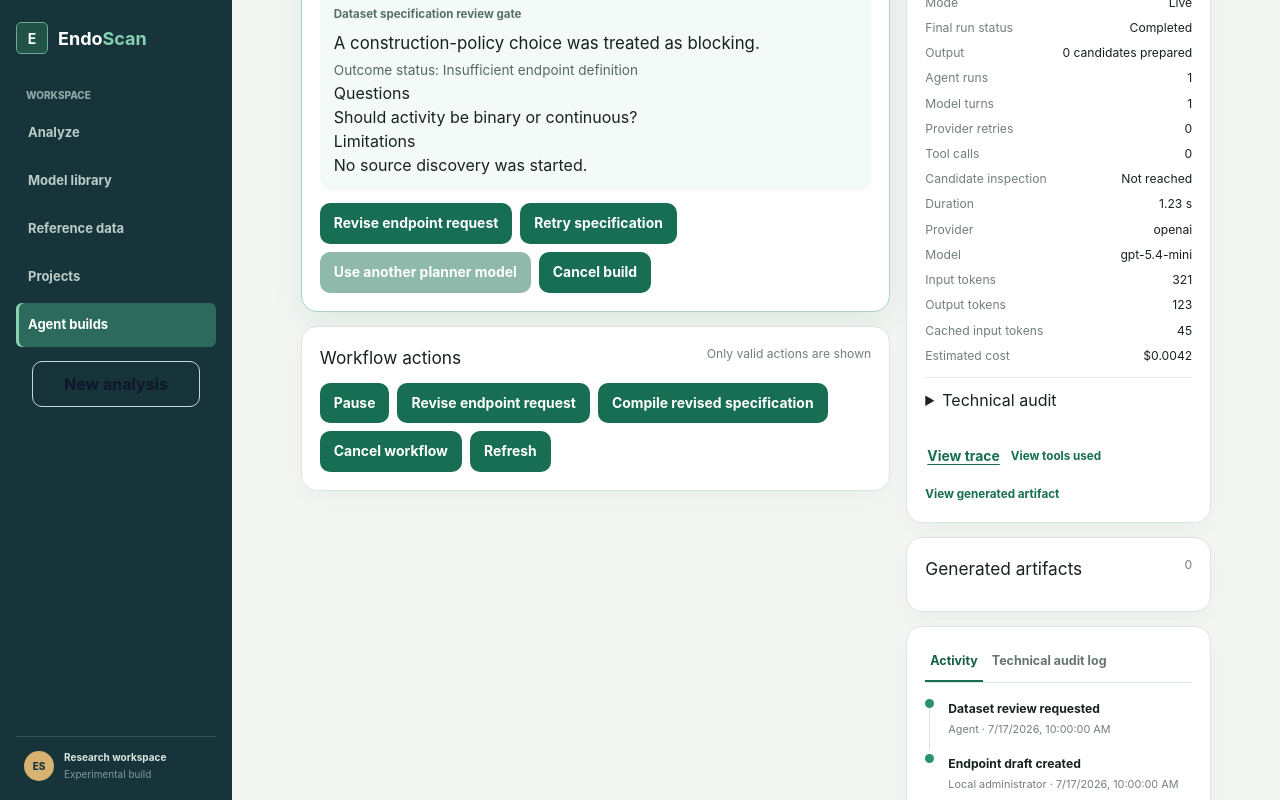
Test: bounded-discovery live discovery presentation › renders a valid historical insufficient outcome without a schema-failure claim
(page scrolled)
Expected: the heading "A construction-policy choice was treated as blocking." is shown, [334,33,760,53]
Expected: the list item "Should activity be binary or continuous?" is shown, [334,107,637,127]
Click the heading "Technical audit": (999, 400) [942,390,1056,410]
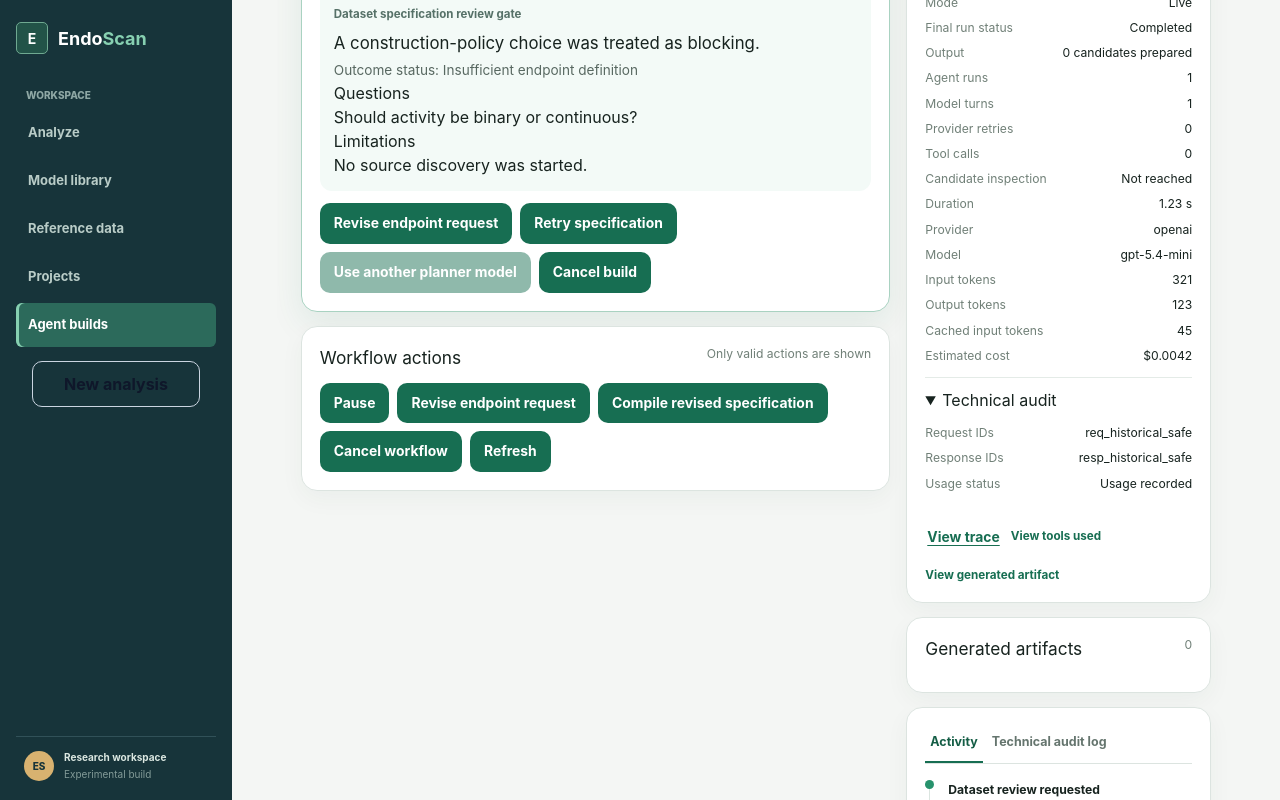
Now the text "req_historical_safe" is shown, box [1085,424,1192,442]
Now the text "resp_historical_safe" is shown, box [1079,449,1192,468]
